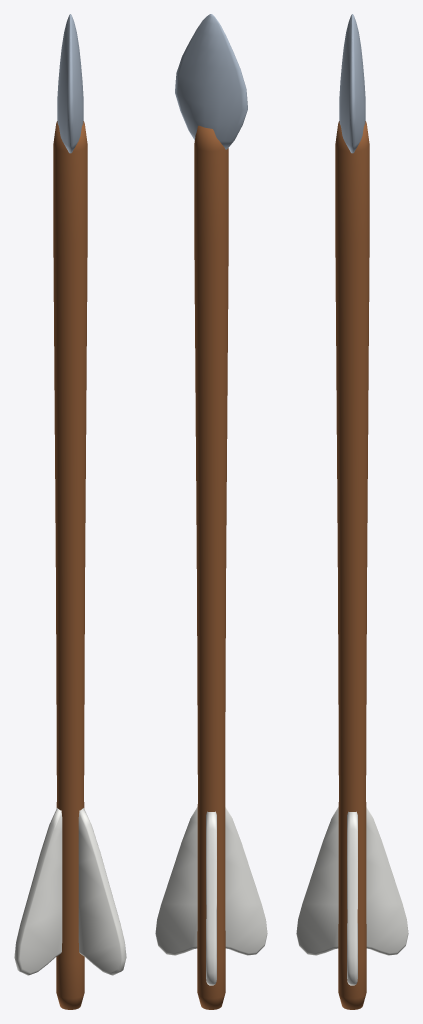
Rendered from flecha.glb.
3 renders of one model, left to right at view 1: azimuth 90°, elevation 25°; view 2: azimuth 150°, elevation 25°; view 3: azimuth 270°, elevation 25°, orthographic.
Visible parts, largest first — view 1: flecha; view 2: flecha; view 3: flecha.
Boxes of the visible parts, x1,y1,x2,y2 form: flecha: (14,14,126,1009); flecha: (155,14,267,1009); flecha: (296,14,408,1009).
Size of the model in its own units: 0.067 by 0.7 by 0.0718.
